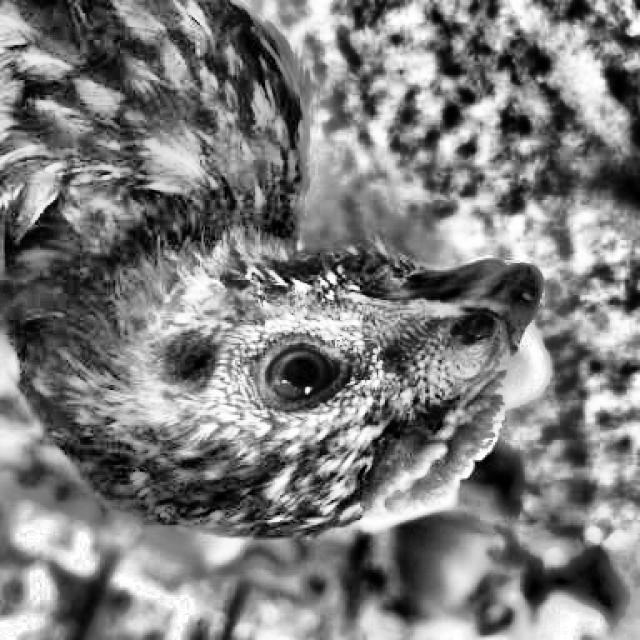Healthy: (207, 323, 388, 452)
